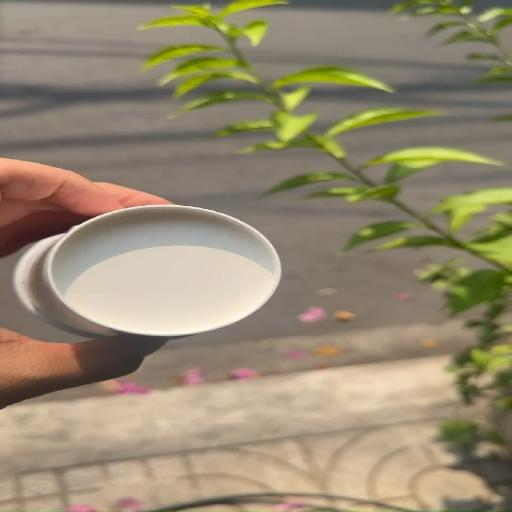Ly_giay: (13, 205, 281, 338)
